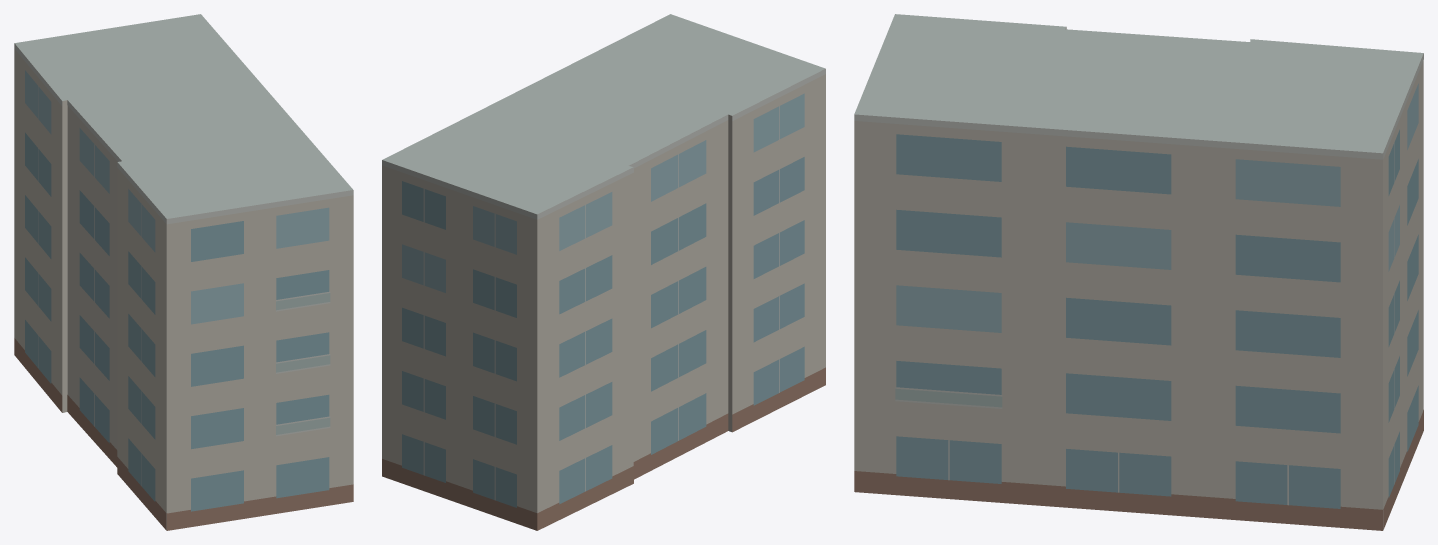
Rendered from survey-upis-33046345.glb.
3 renders of one model, left to right at view 1: azimuth 30°, elevation 25°; view 2: azimuth 150°, elevation 25°; view 3: azimuth 270°, elevation 25°, orthographic. The views are drawn at different scales.
Visible parts, largest first — view 1: survey-upis-33046345.tmp; view 2: survey-upis-33046345.tmp; view 3: survey-upis-33046345.tmp.
Boxes of the visible parts, left/top/right/bottom form: survey-upis-33046345.tmp: left=14, top=14, right=353, bottom=530; survey-upis-33046345.tmp: left=382, top=14, right=825, bottom=530; survey-upis-33046345.tmp: left=854, top=14, right=1423, bottom=530.
Bounding box in the file's own units: 11.32 × 14.3 × 19.56.
